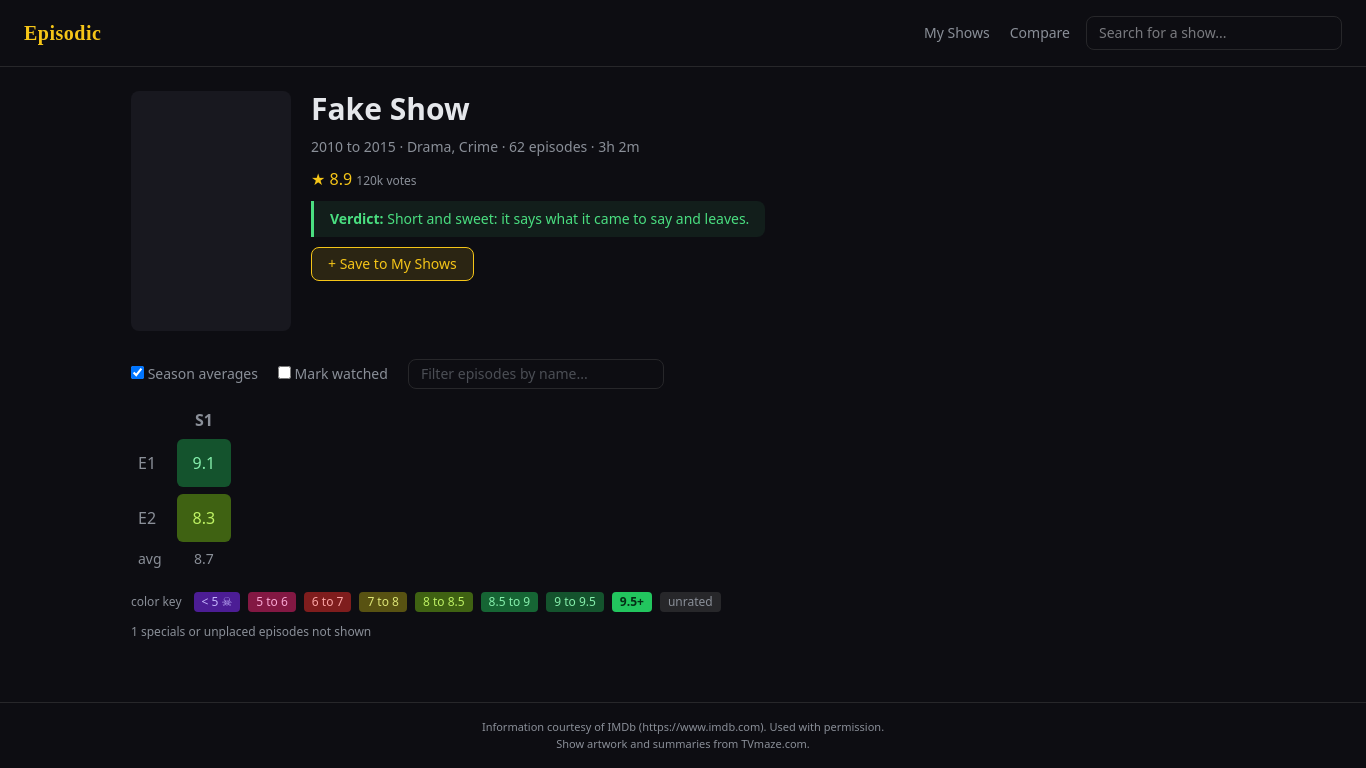
Test case: Show page › renders the episode filter and match count on long-running shows
Expected: the heading "Fake Show" is shown, [311,88,470,129]
In the field with placeholder "Filter episodes by name...": {"x": 536, "y": 374} [408,359,664,389], type "pilot"
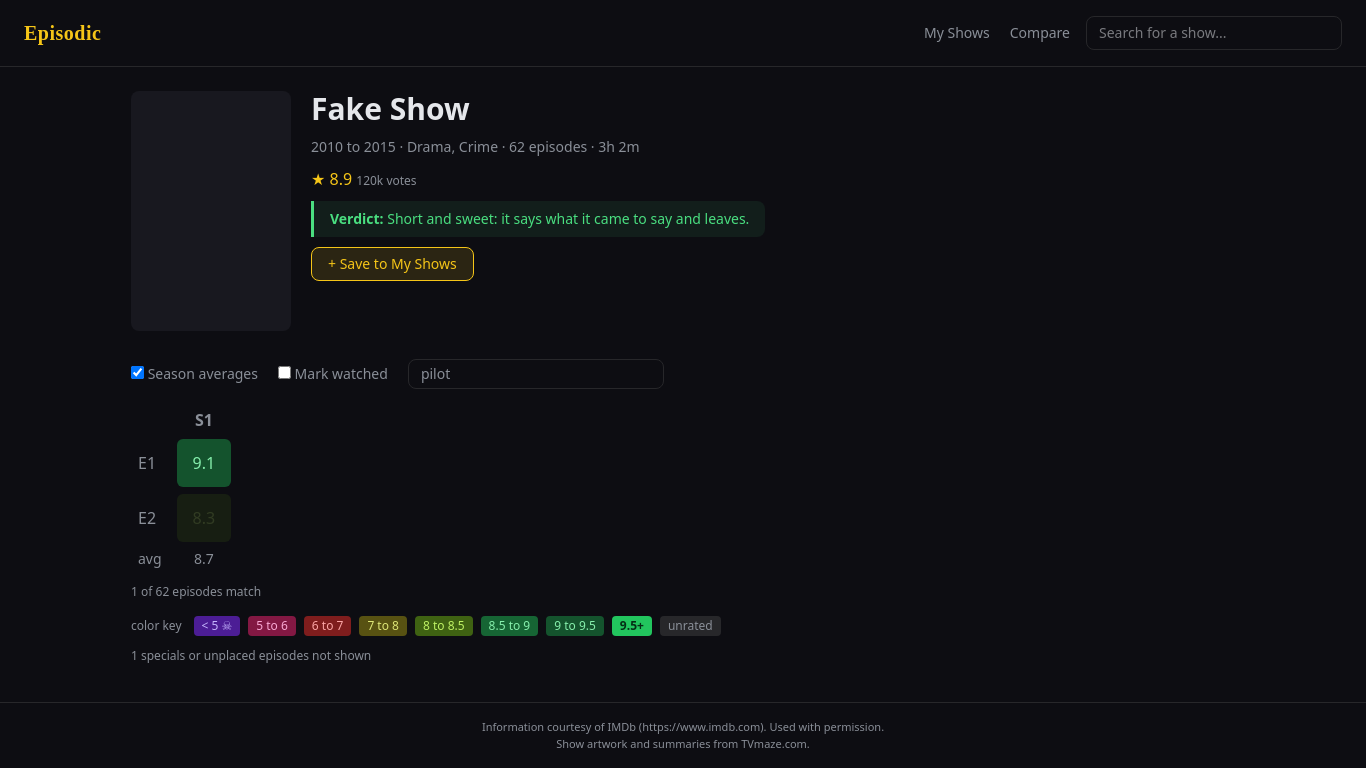
Result: the text "1 of 62 episodes match" is shown at [131,583,261,600]
